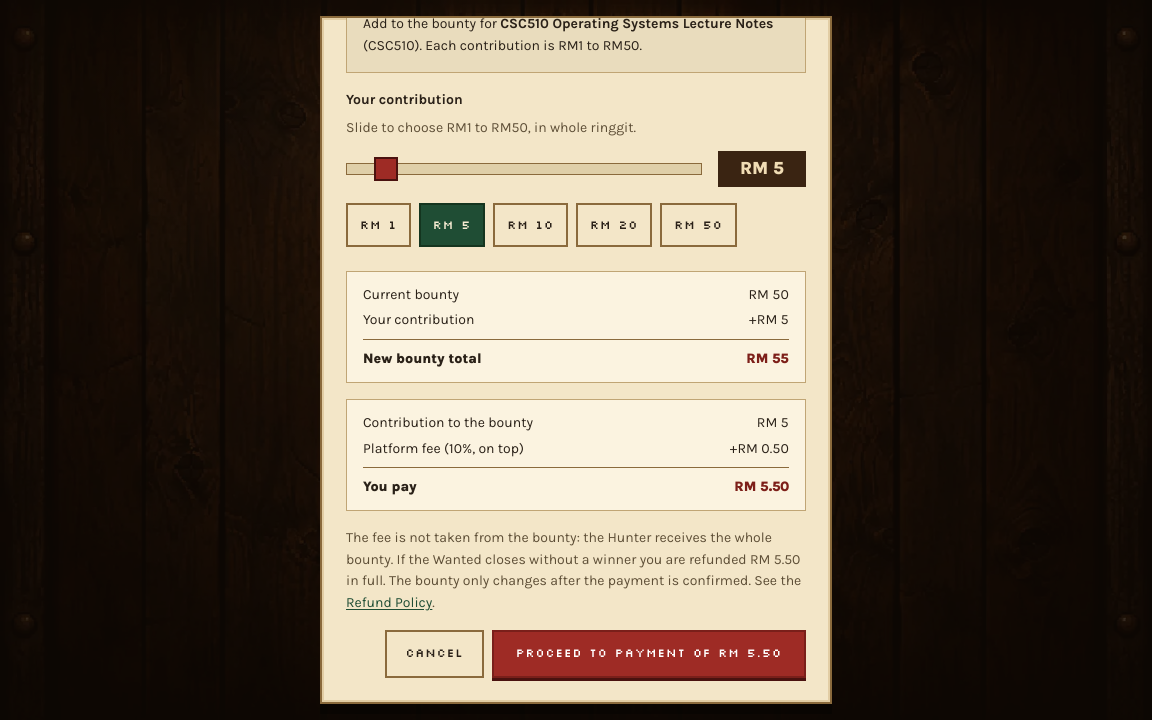
BackWantedModal › sends a Backer without bank details to their profile first
(page scrolled)
Click the button "Proceed to payment of RM 5.50" at x=649, y=654, box [492,630,806,678]
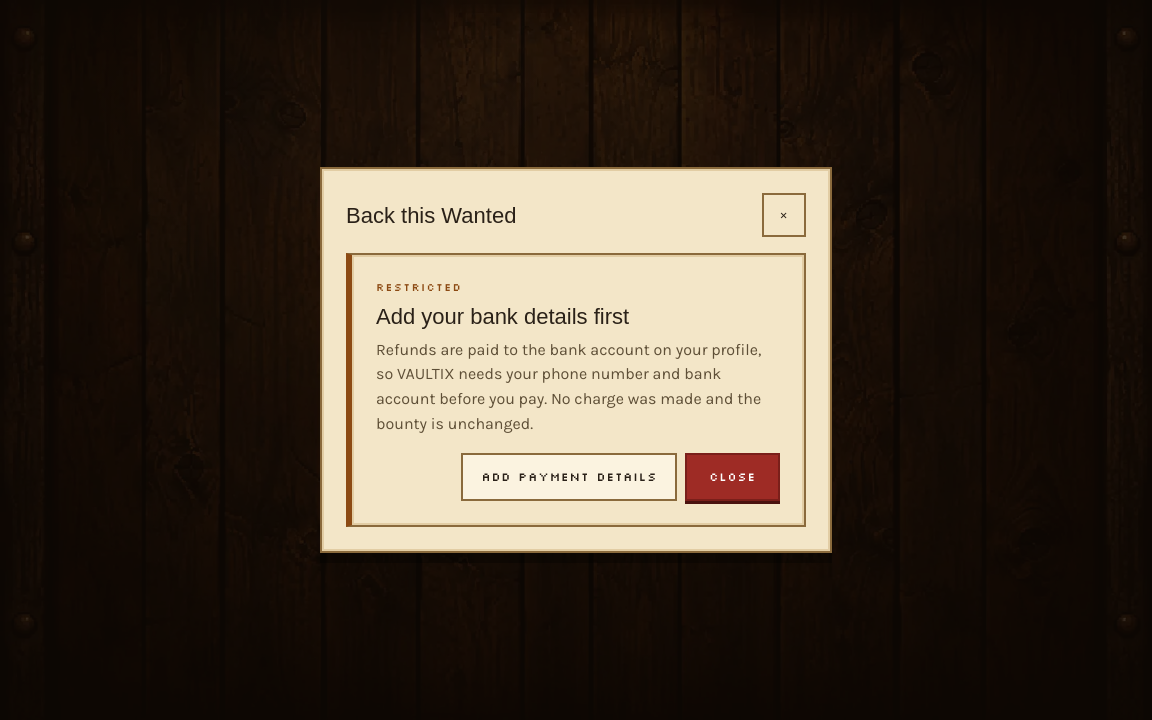
Expected: the heading "Add your bank details first" is shown, [376,304,629,329]
Expected: the text "No charge was made" is shown, [376,340,761,433]
